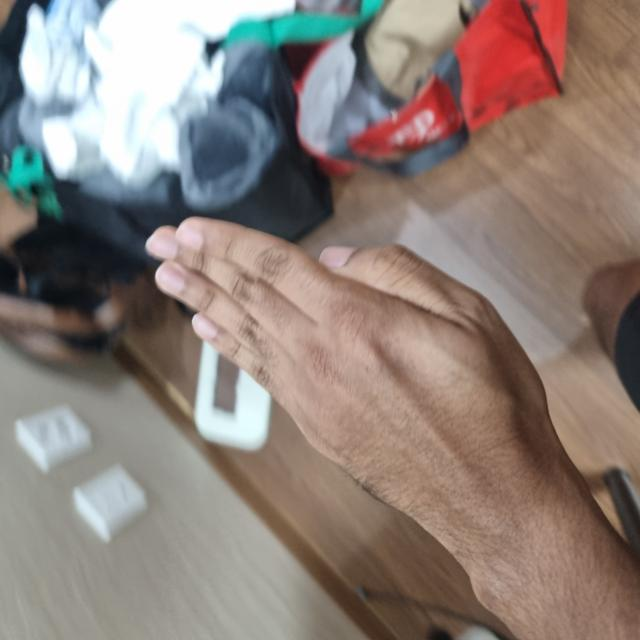Paper: (99, 151, 424, 557)
